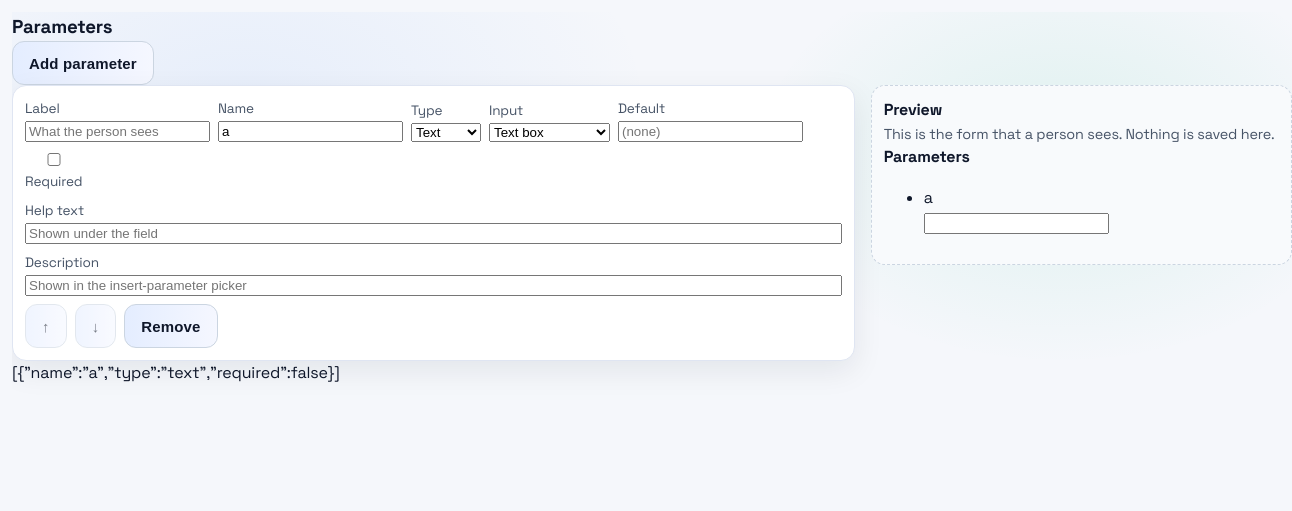
ParameterDeclarationCard › shows only the settings of the chosen kind
This screenshot has width=1292, height=511.
Expected: the button "Add option" is not shown
Select "List of options" in the dropdown named "Parameter 1 input" at point(550, 133), box [489,123,610,142]
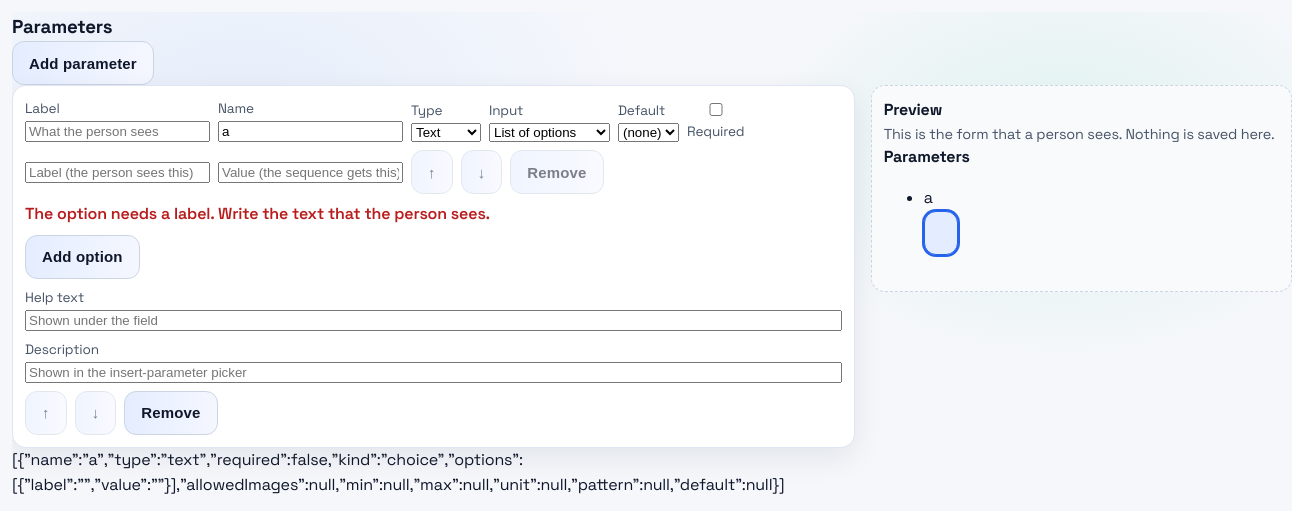
Expected: the button "Add option" is shown, [25,235,140,279]
Select "Image from a list" in the dropdown named "Parameter 1 input" at point(550, 133), box [489,123,610,142]
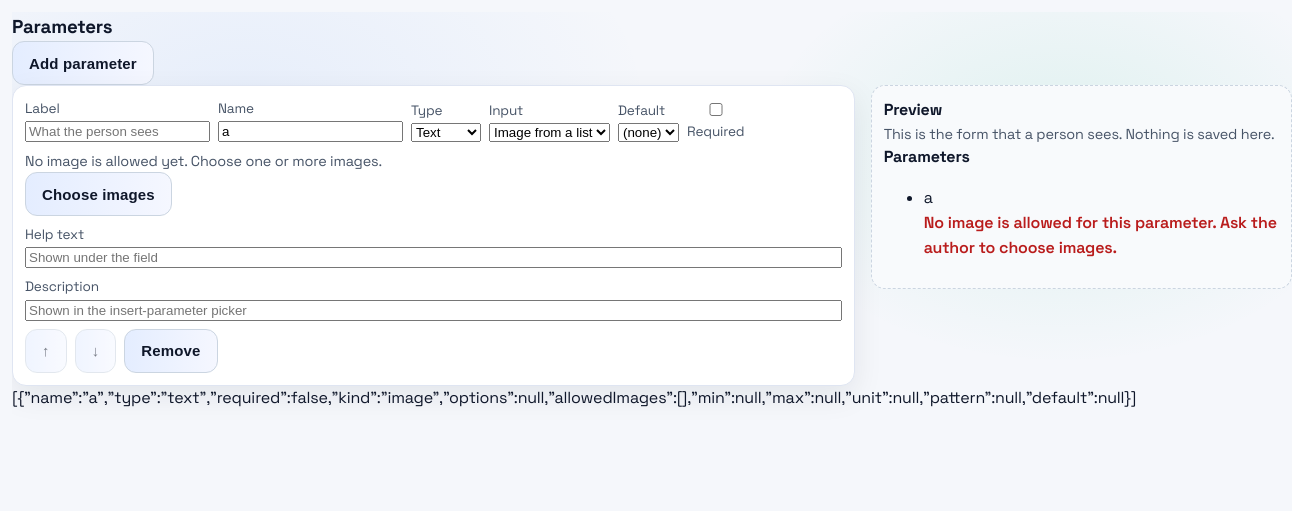
Expected: the button "Choose images" is shown, [25,172,172,216]
Expected: the button "Add option" is gone
